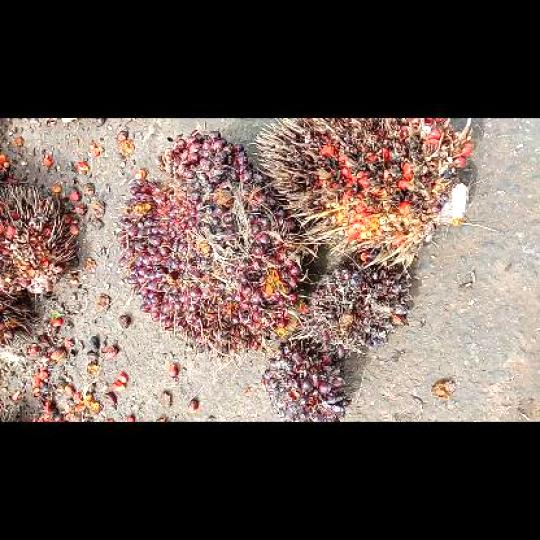masak: (111, 128, 307, 360)
terlalu masak: (249, 118, 478, 270)
